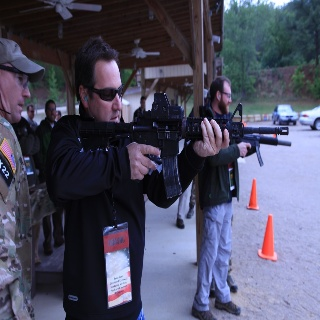rifle: (77, 90, 290, 199)
